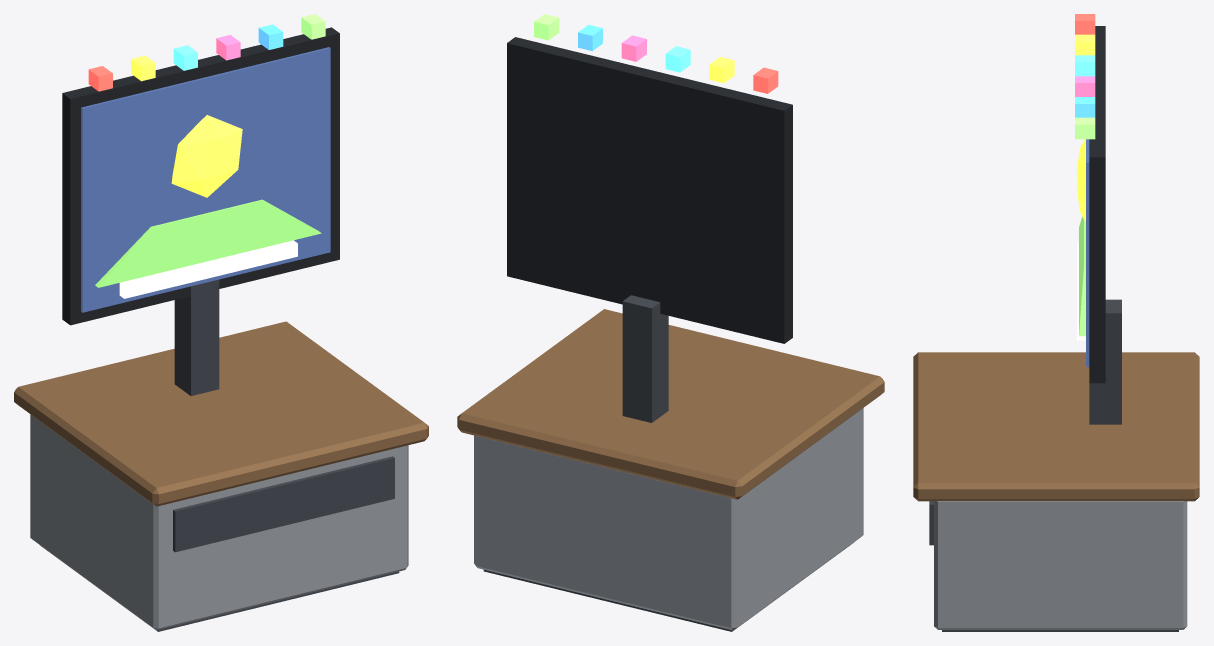
File: poster_3.glb
3 views of the same model, side by side, from view 1: azimuth 30°, elevation 25°; view 2: azimuth 150°, elevation 25°; view 3: azimuth 270°, elevation 25° (orthographic). The views are drawn at different scales.
Parts seen in each view (by area): view 1: poster_3_mesh_Desk, poster_3_mesh; view 2: poster_3_mesh_Desk, poster_3_mesh; view 3: poster_3_mesh_Desk, poster_3_mesh.
Boxes of the visible parts, x1,y1,x2,y2 form: poster_3_mesh_Desk: (14,321,428,631); poster_3_mesh: (62,14,339,395); poster_3_mesh_Desk: (457,309,884,631); poster_3_mesh: (507,14,792,422); poster_3_mesh_Desk: (913,352,1199,631); poster_3_mesh: (1075,14,1121,424).
Size of the model in its own units: 0.78 by 1.36 by 0.7.
